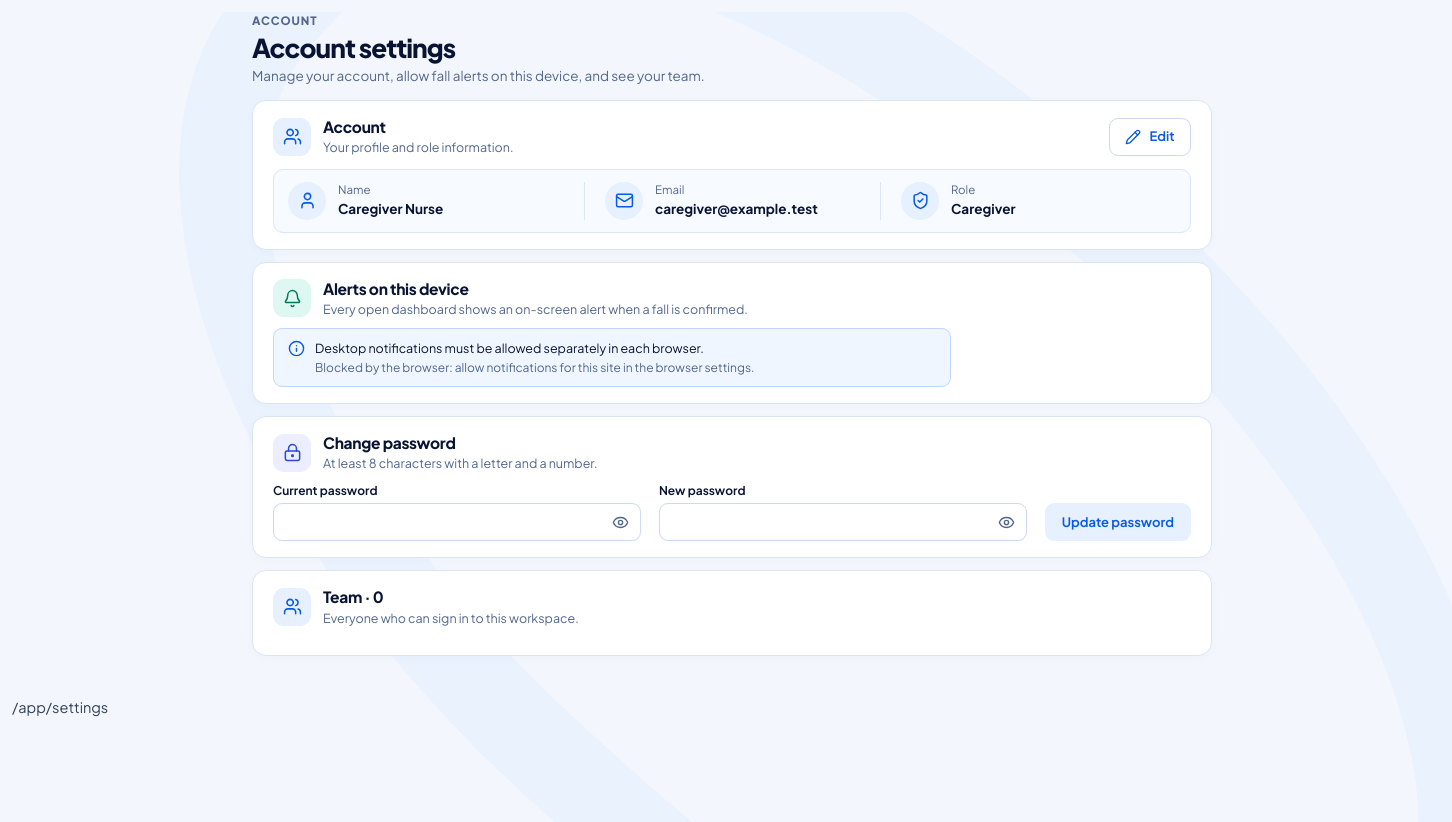
Test: Account settings reference controls › prevents duplicate password requests and clears both fields and visibility after success
Expected: the button "Update password" is disabled, [1045, 503, 1191, 541]
In the password field labelled "Current password": [457, 522] box [273, 503, 641, 541], type "old-test-123"
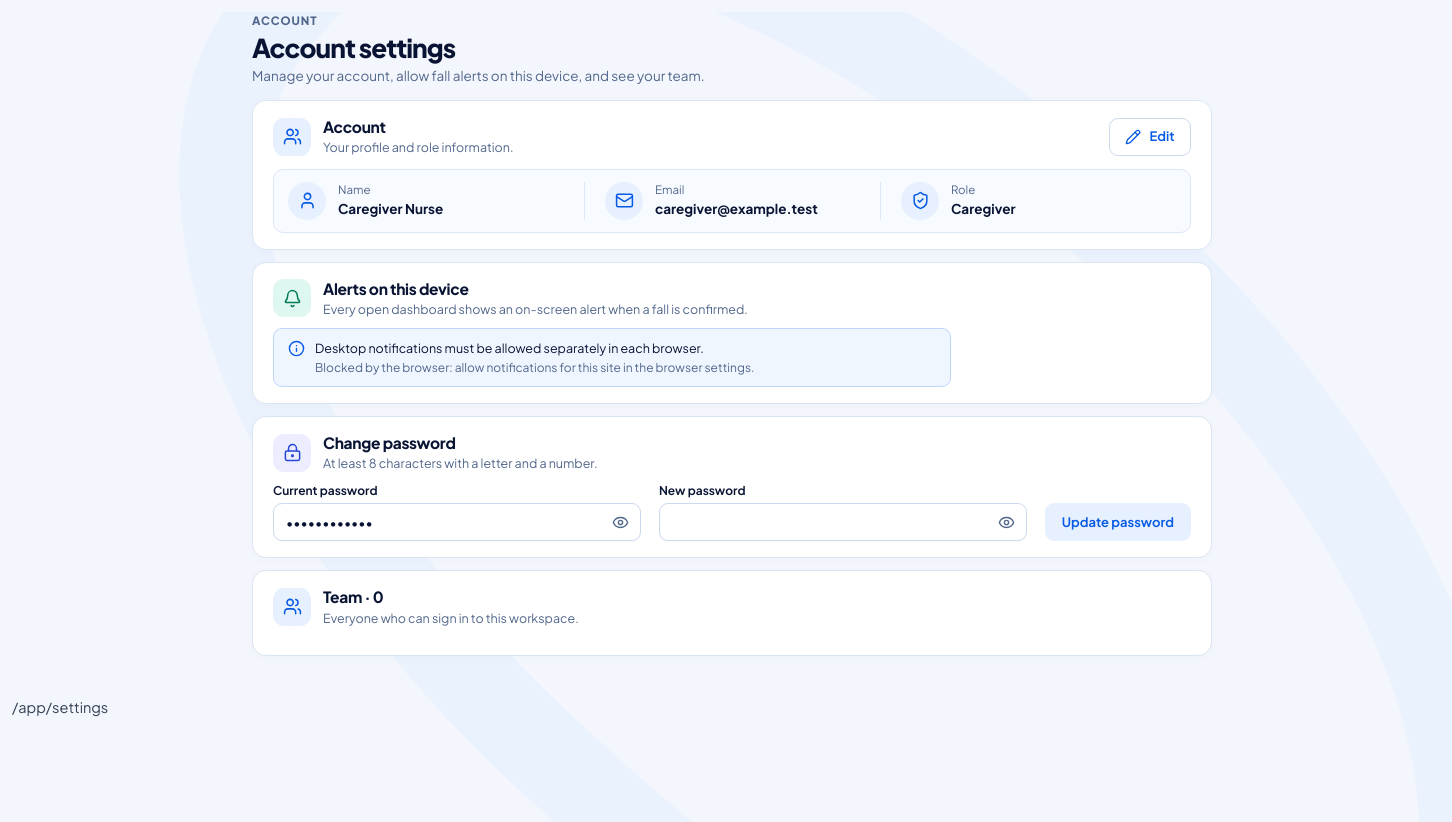
In the password field labelled "New password": [843, 522] box [659, 503, 1027, 541], type "new-test-456"
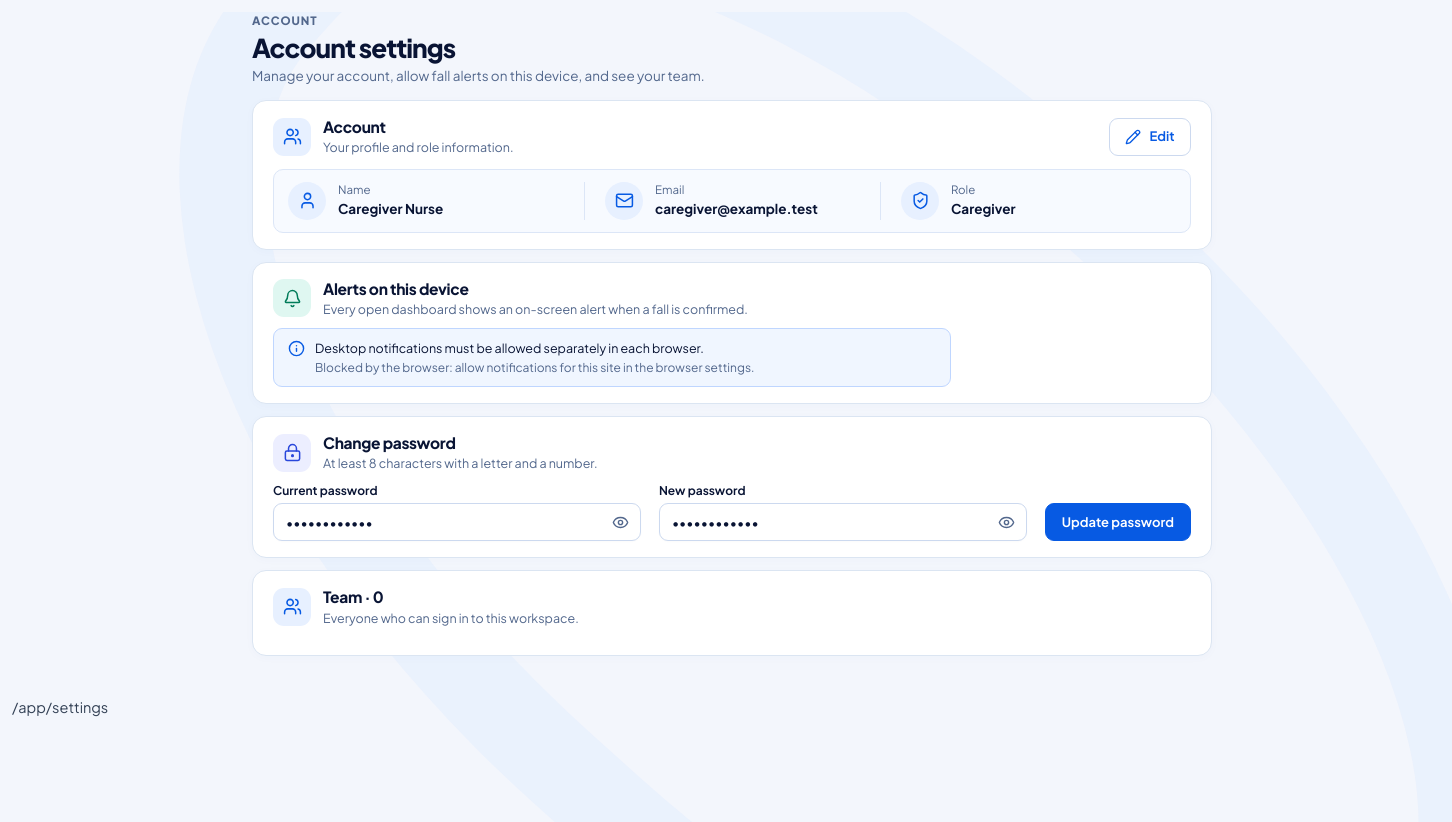
Click the button named "Show new password": [1007, 522] box [989, 504, 1025, 540]
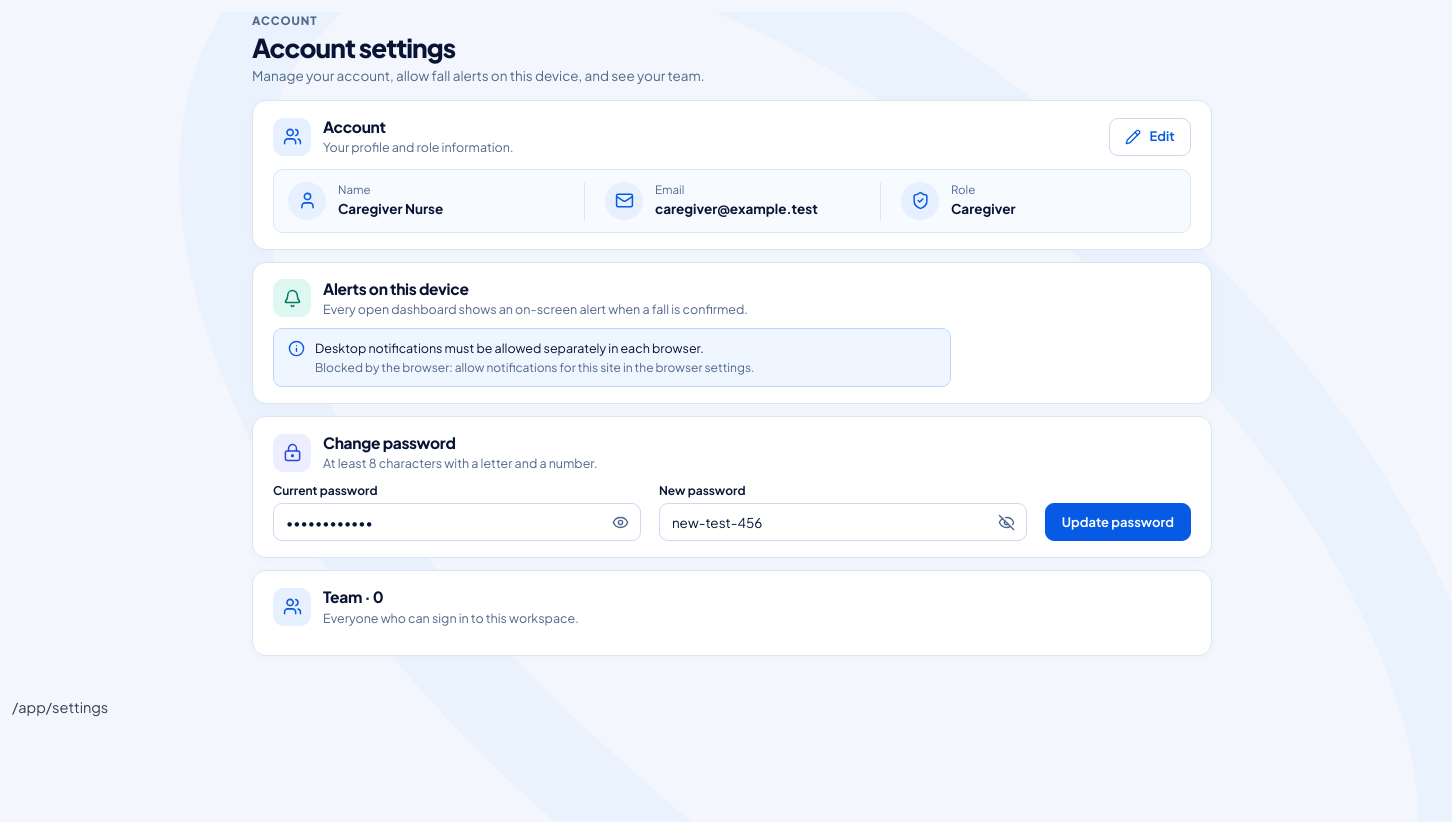
Click the button "Update password": [1118, 522] box [1045, 503, 1191, 541]
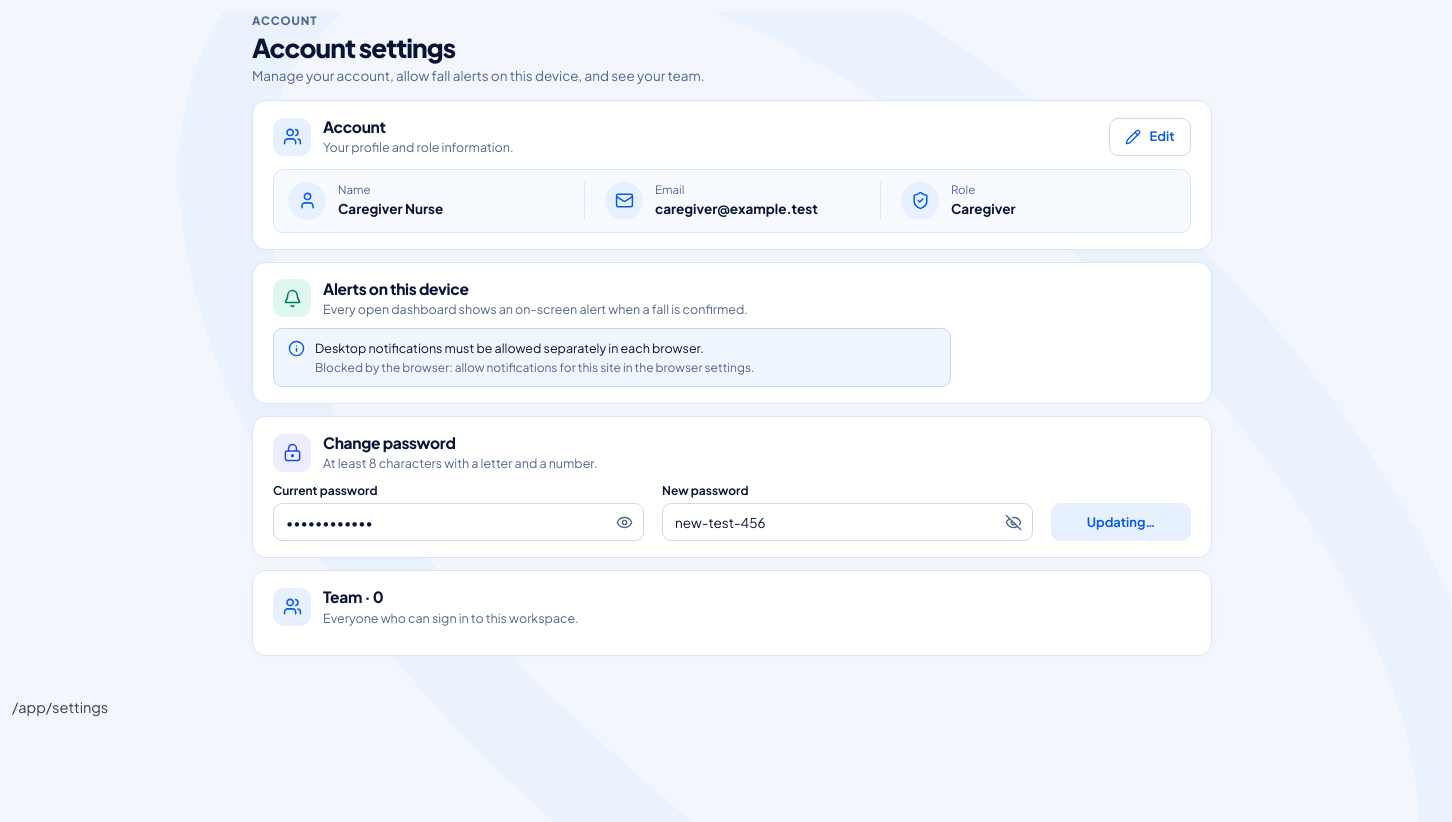
Submit the form, box [273, 483, 1191, 541]
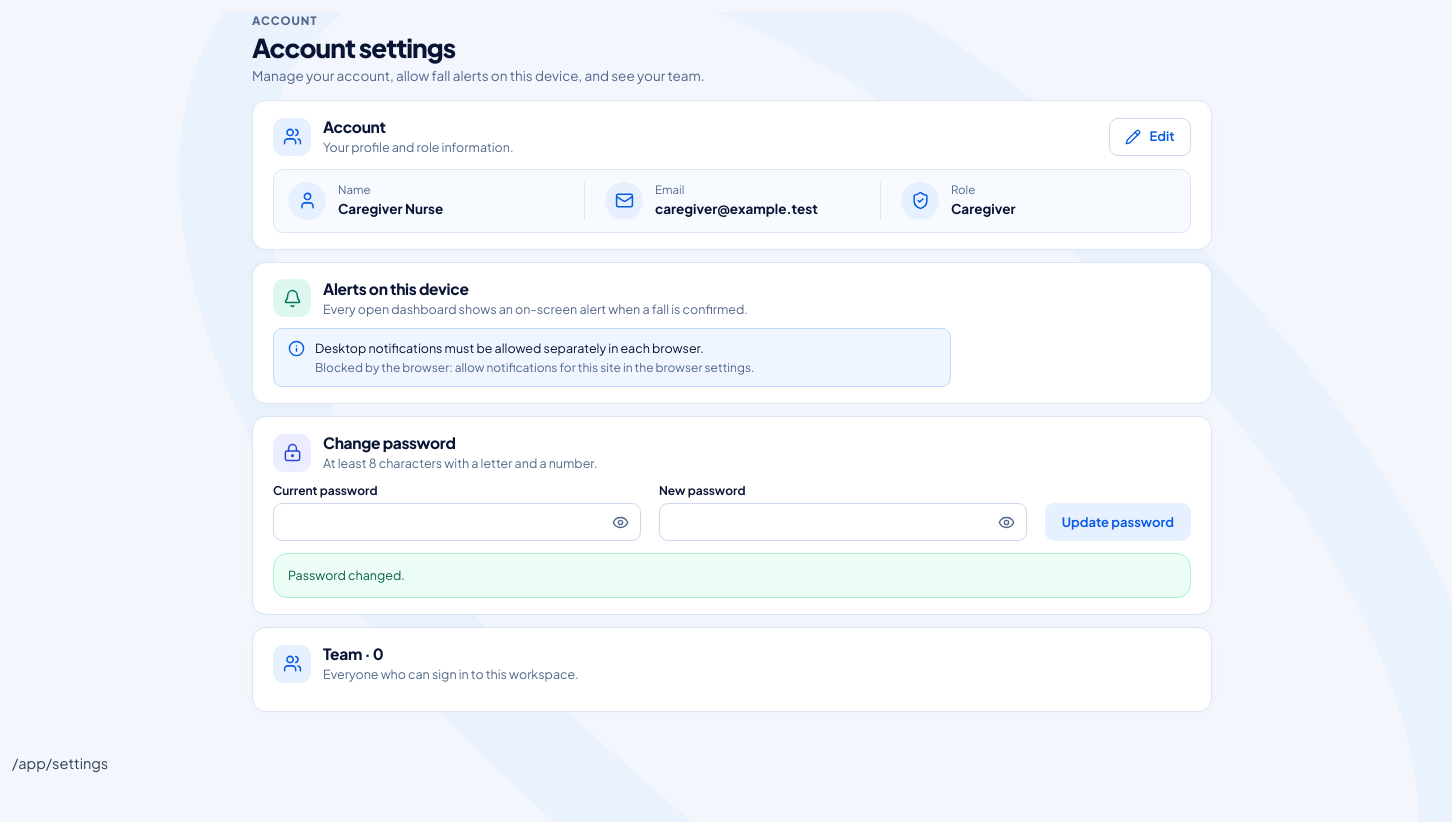
Result: the button named "Updating…" is disabled at [1045, 503, 1191, 541]
Result: the text "Password changed." is shown at [273, 553, 1191, 598]
